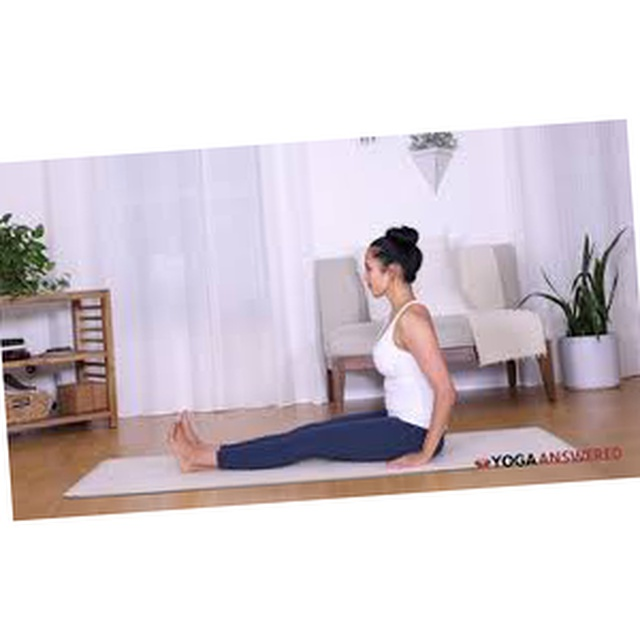Staff_Pose: (165, 223, 459, 476)
